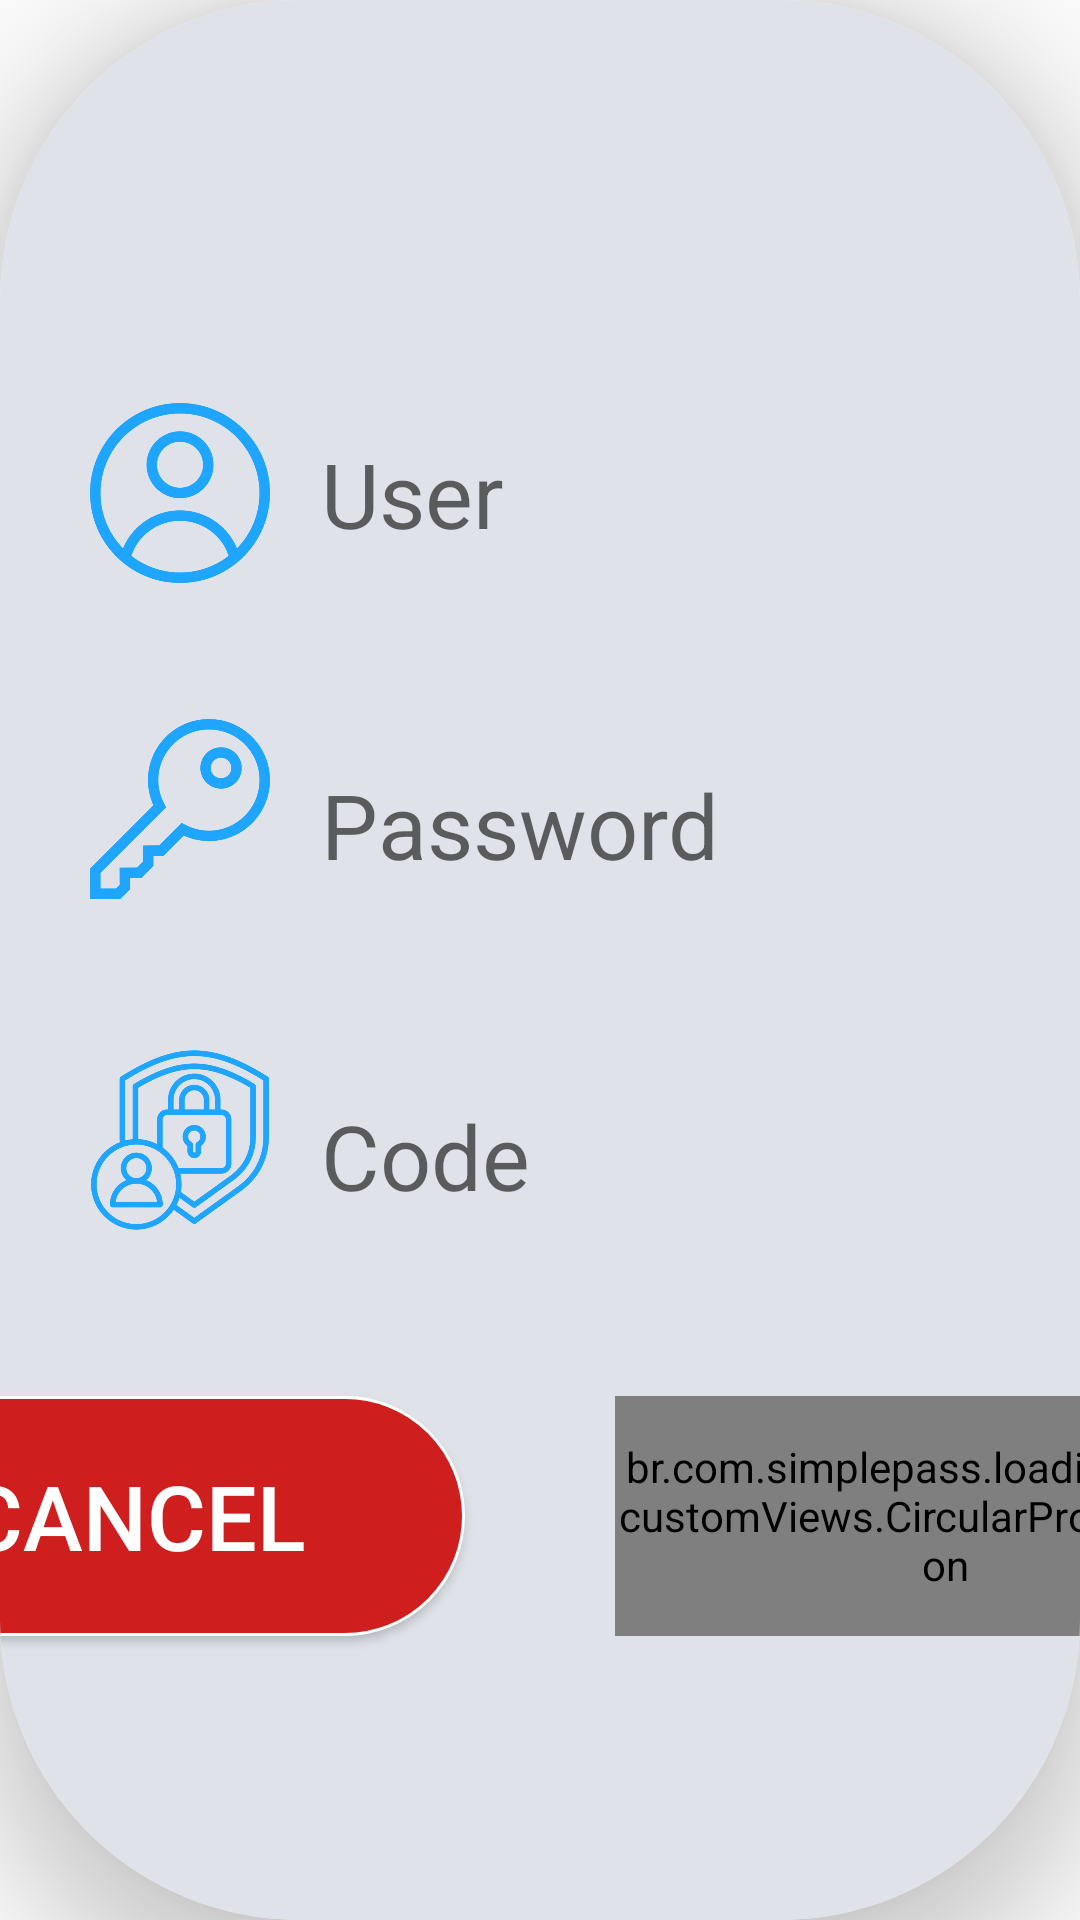

Screen size 1080×1920. Icon name, then its center in pixels as (x=x, y=y):
codigo: (x=180, y=1140)
